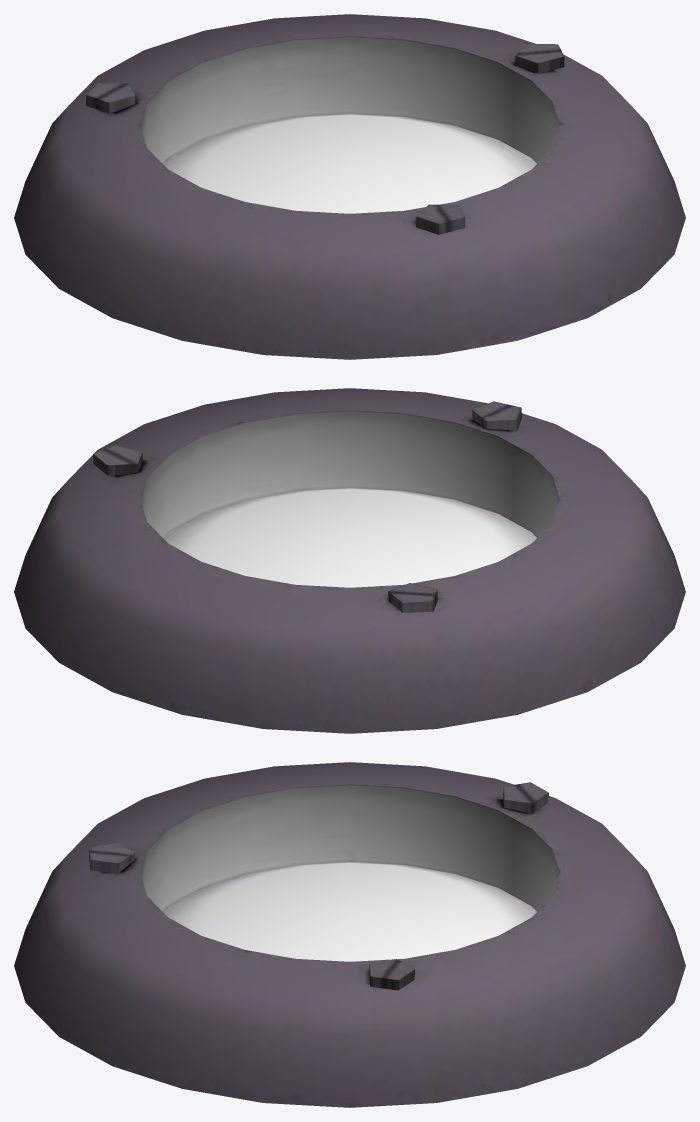
3 views of the same model, one above another, from view 1: azimuth 30°, elevation 25°; view 2: azimuth 150°, elevation 25°; view 3: azimuth 270°, elevation 25° (orthographic).
Parts seen in each view (by area): view 1: body0_model0_lod0_mesh0; view 2: body0_model0_lod0_mesh0; view 3: body0_model0_lod0_mesh0.
Part boxes in pixels (x1,y1,x2,y2): body0_model0_lod0_mesh0: (14, 14, 685, 359); body0_model0_lod0_mesh0: (14, 388, 685, 733); body0_model0_lod0_mesh0: (14, 762, 685, 1107).
Bounding box in the file's own units: 11.23 × 1.83 × 11.23.
1 material, 1 textured.
